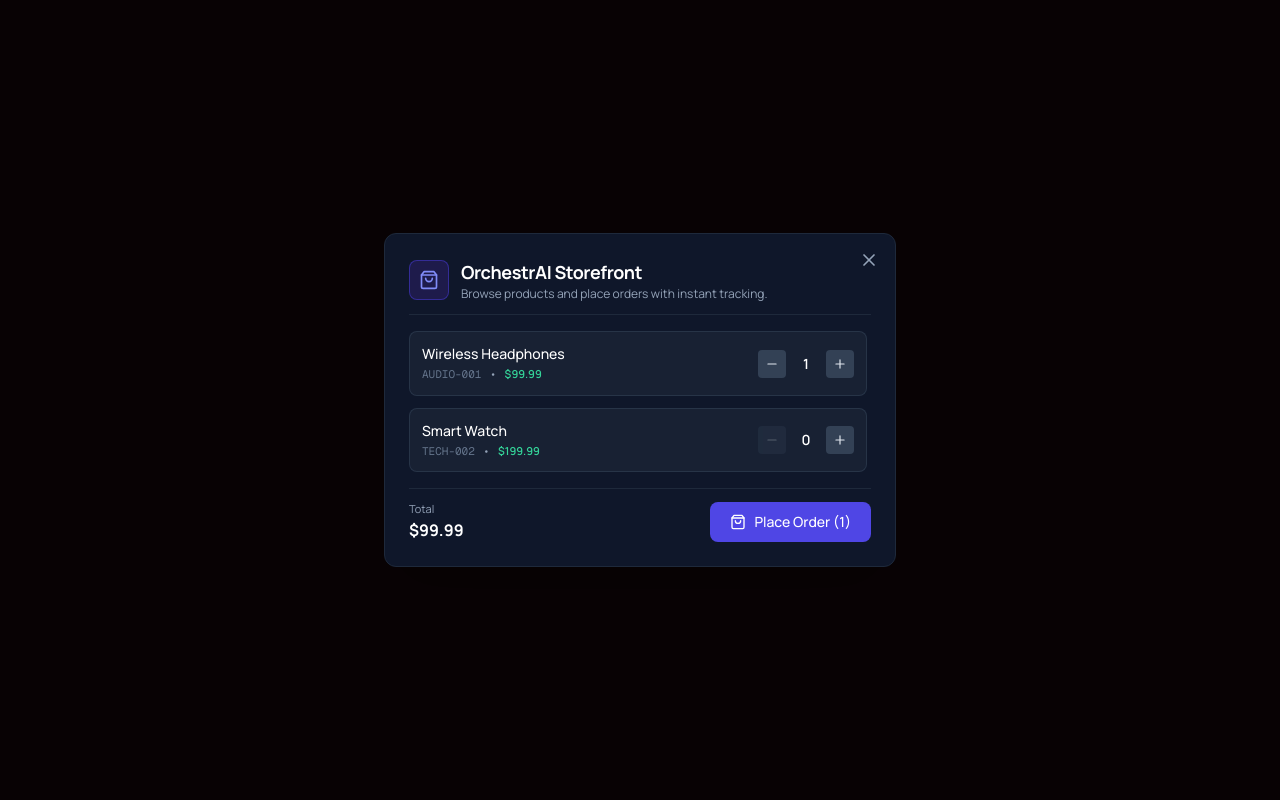
StorefrontModal › places order successfully and displays confirmation screen with agent action
The width and height of the screenshot is (1280, 800).
Later steps or results of the test are not shown.
Expected: the text "Wireless Headphones" is shown, [422,344,565,364]
Click the button with test id "place-order-submit-btn" at (791, 522), box [710,502,871,542]
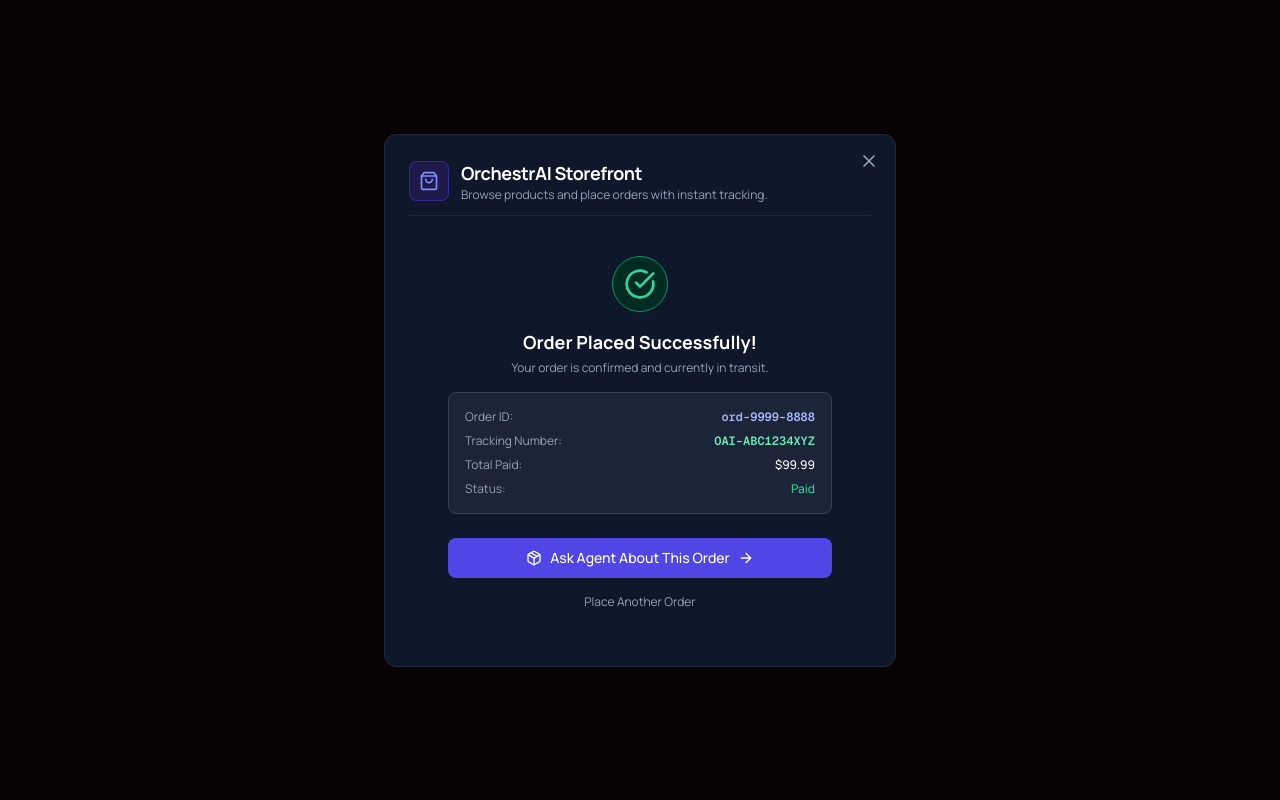
Now the element with test id "order-success-screen" is shown, box [448,256,832,618]
Now the text with test id "placed-order-id" reads "ord-9999-8888", box [721,408,815,424]
Now the text with test id "placed-tracking-number" reads "OAI-ABC1234XYZ", box [714,432,815,448]
